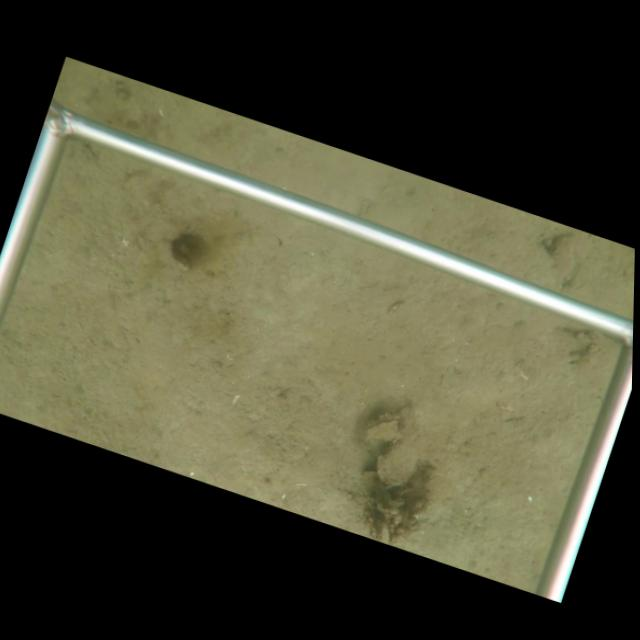Oyster-Closed: (376, 443, 424, 489), (361, 413, 400, 442)
